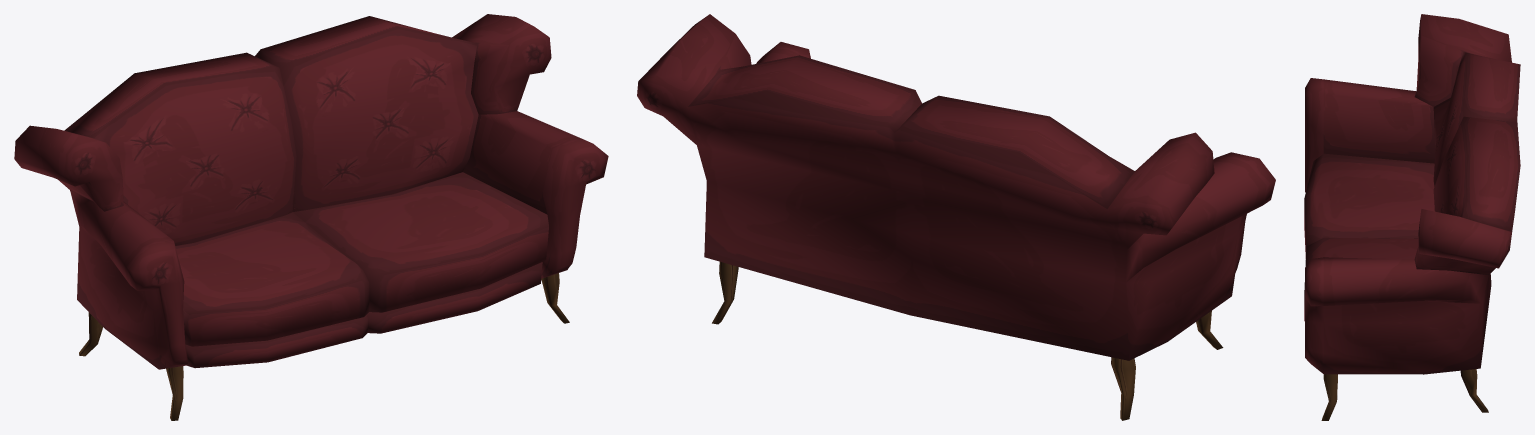
Rendered from SM_PROP_sofa_interior.fbx.
The picture shows the model from 3 angles, left to right: view 1: azimuth 30°, elevation 25°; view 2: azimuth 150°, elevation 25°; view 3: azimuth 270°, elevation 25°; orthographic projection. The views are drawn at different scales.
Parts seen in each view (by area): view 1: SM_PROP_sofa_interior; view 2: SM_PROP_sofa_interior; view 3: SM_PROP_sofa_interior.
Part boxes in pixels (box(x1,y1,x2,y2)): SM_PROP_sofa_interior: box(14, 14, 608, 420); SM_PROP_sofa_interior: box(637, 14, 1275, 420); SM_PROP_sofa_interior: box(1304, 14, 1520, 420).
Size of what is drawn, in the model's own units: 229 by 113 by 97.45.
